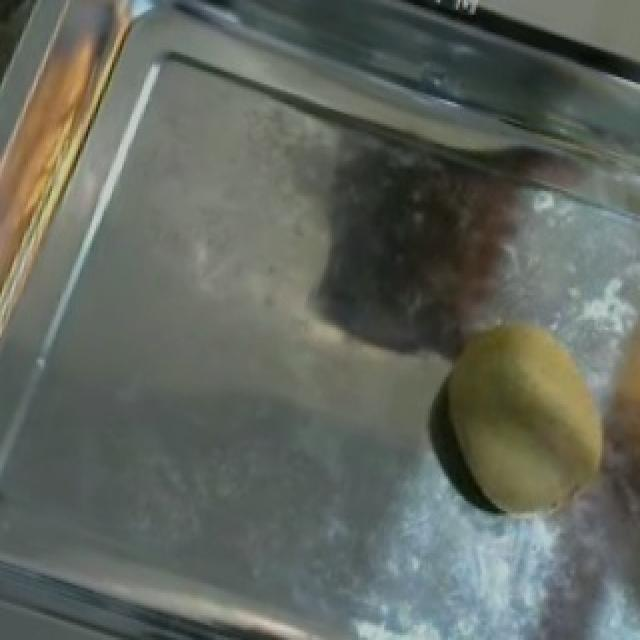Fruit: (410, 283, 640, 541), (0, 3, 168, 305)
